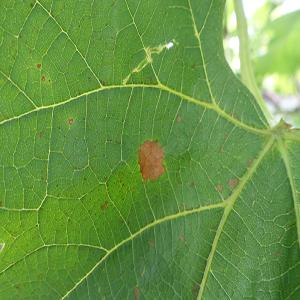Folha: (1, 0, 299, 299)
Fungo: (138, 139, 166, 183), (36, 62, 51, 84), (227, 176, 239, 192), (133, 286, 140, 299), (100, 200, 108, 211), (215, 182, 223, 192), (247, 158, 253, 166), (148, 239, 154, 247), (179, 234, 185, 242), (176, 113, 181, 122), (39, 130, 43, 138), (190, 180, 194, 188), (68, 118, 73, 124), (41, 76, 45, 82), (224, 134, 228, 140), (37, 63, 41, 68), (30, 2, 34, 7), (48, 78, 50, 82)
